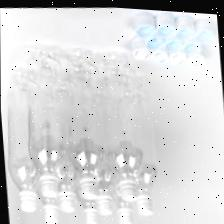plastic: (20, 40, 72, 192), (61, 43, 109, 198), (99, 47, 146, 202), (117, 70, 158, 217), (40, 66, 80, 216), (2, 61, 40, 218), (23, 77, 62, 224), (64, 75, 102, 224), (80, 69, 116, 217), (101, 76, 136, 224), (154, 10, 178, 38), (193, 17, 217, 42), (131, 7, 153, 33), (131, 38, 152, 60), (175, 13, 193, 38), (186, 47, 206, 69), (183, 36, 203, 57), (163, 33, 184, 53), (144, 31, 165, 51), (168, 46, 186, 67), (151, 47, 169, 63)
